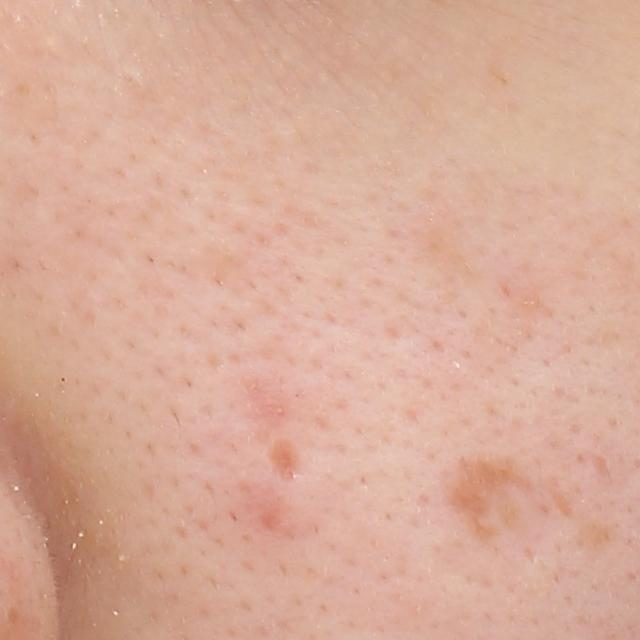atrophic_scar: (447, 447, 536, 548), (261, 438, 306, 485), (592, 449, 615, 483)
